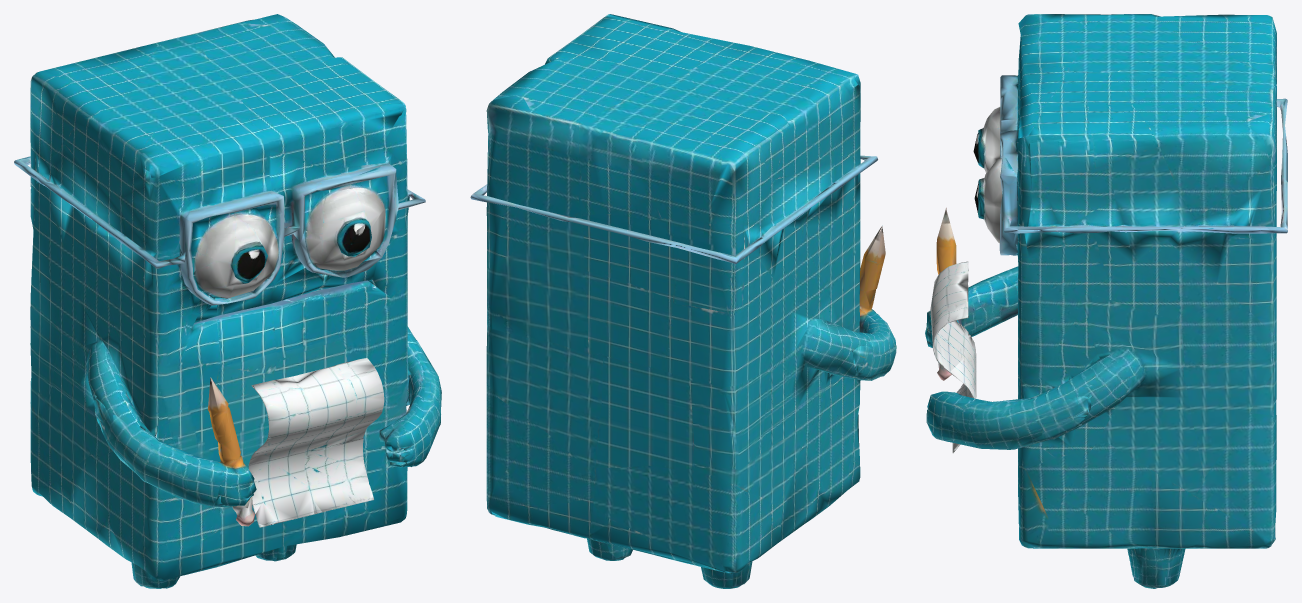
The model's file is blue.glb.
3 renders of one model, left to right at view 1: azimuth 30°, elevation 25°; view 2: azimuth 150°, elevation 25°; view 3: azimuth 270°, elevation 25°, orthographic.
Bounding box in the file's own units: 1.28 × 1.9 × 1.3.
1 material, 1 textured.
